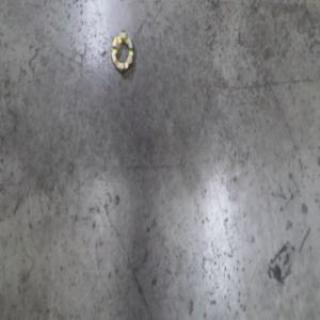Nuttrack_idkeyframe: (109, 29, 134, 74)
